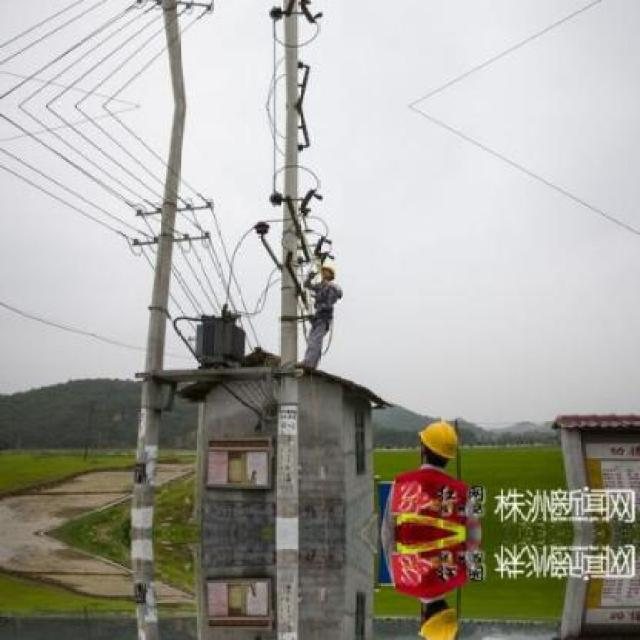helmet: (412, 416, 462, 468), (412, 597, 463, 637), (319, 261, 339, 283)
